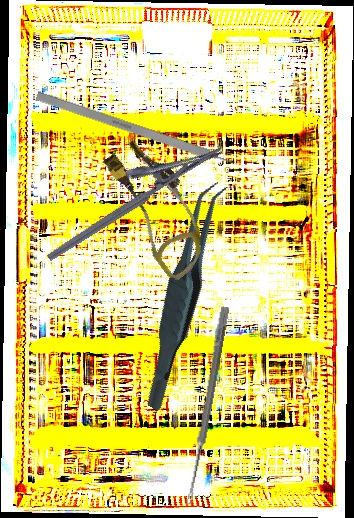Cannula: (89, 131, 227, 284)
Hook Surgical: (35, 90, 252, 174)
Needle Holder: (31, 122, 224, 263)
Surgical Spoon: (184, 305, 230, 507)
Tissue Forceps: (99, 176, 269, 413)
